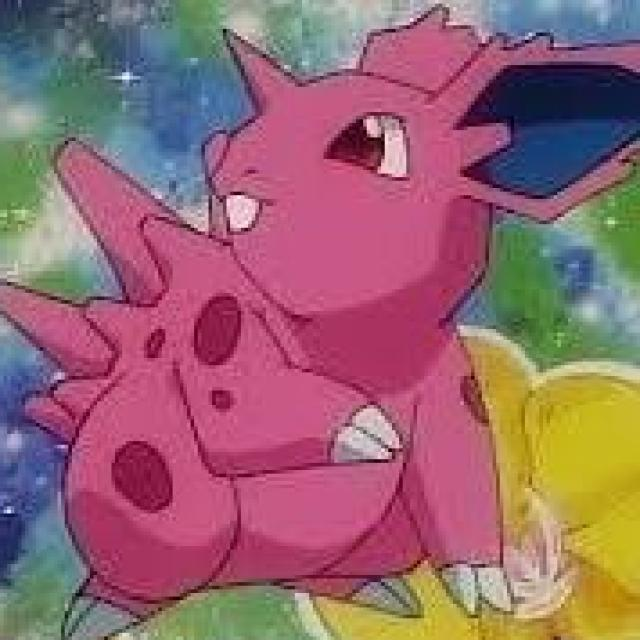Nidorino: (16, 5, 634, 640)
